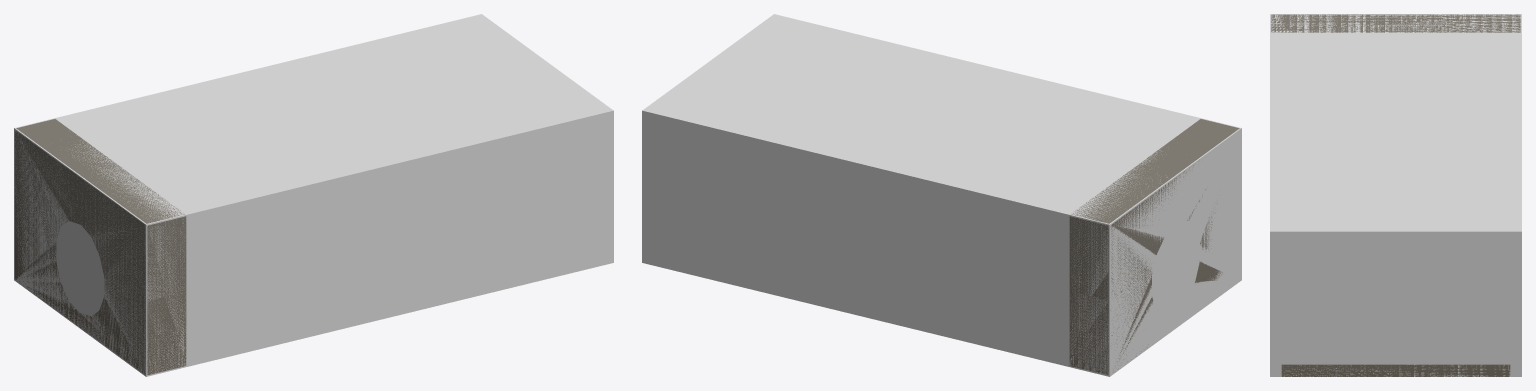
The model's file is KIT_SF_StormOutfall_A.glb.
The picture shows the model from 3 angles, left to right: view 1: azimuth 30°, elevation 25°; view 2: azimuth 150°, elevation 25°; view 3: azimuth 270°, elevation 25°; orthographic projection. The views are drawn at different scales.
Parts seen in each view (by area): view 1: KIT_SF_StormOutfall_A_COL, KIT_SF_StormOutfall_A; view 2: KIT_SF_StormOutfall_A_COL, KIT_SF_StormOutfall_A; view 3: KIT_SF_StormOutfall_A_COL, KIT_SF_StormOutfall_A.
Boxes of the visible parts, x1,y1,x2,y2 form: KIT_SF_StormOutfall_A_COL: (14,14,613,376); KIT_SF_StormOutfall_A: (15,119,186,374); KIT_SF_StormOutfall_A_COL: (642,14,1241,376); KIT_SF_StormOutfall_A: (1069,119,1239,374); KIT_SF_StormOutfall_A_COL: (1270,14,1521,376); KIT_SF_StormOutfall_A: (1271,14,1520,376).
Size of what is drawn, in the model's own units: 4.5 by 1.4 by 2.2.
